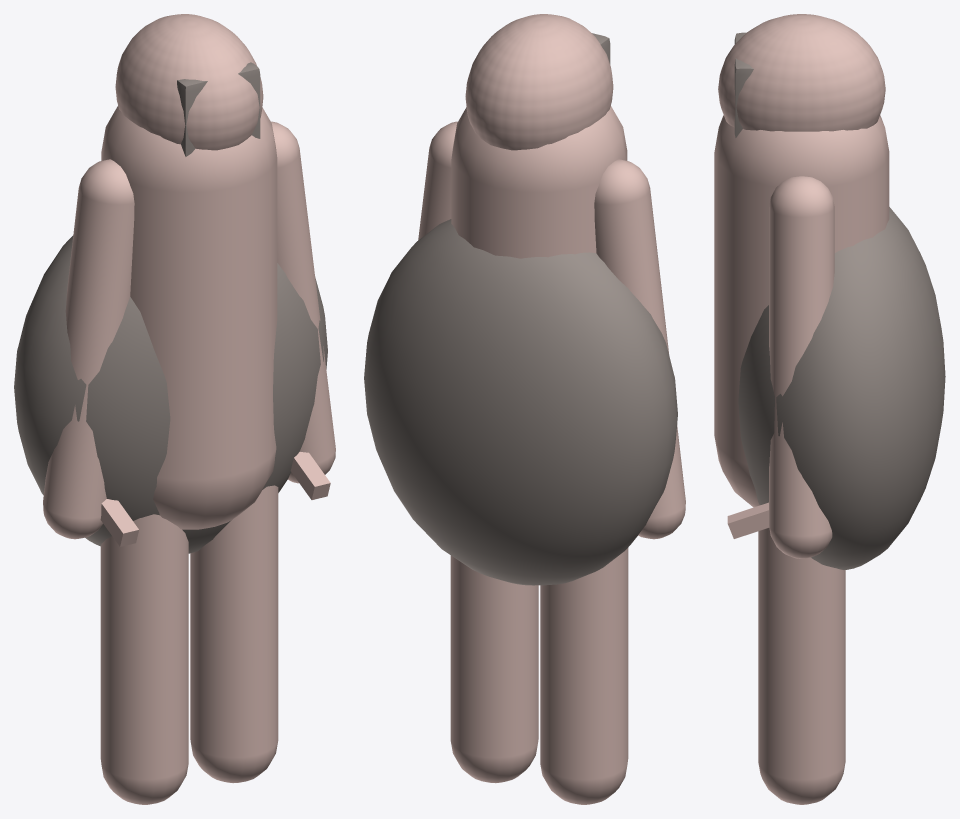
Rendered from MN_skinstealer.fbx.
3 renders of one model, left to right at view 1: azimuth 30°, elevation 25°; view 2: azimuth 150°, elevation 25°; view 3: azimuth 270°, elevation 25°, orthographic.
Parts seen in each view (by area): view 1: MN_skinstealer; view 2: MN_skinstealer; view 3: MN_skinstealer.
Part boxes in pixels (x1,y1,x2,y2): MN_skinstealer: (14, 14, 335, 804); MN_skinstealer: (364, 14, 685, 804); MN_skinstealer: (714, 14, 945, 804).
Bounding box in the file's own units: 0.924 × 2.3 × 0.634.
